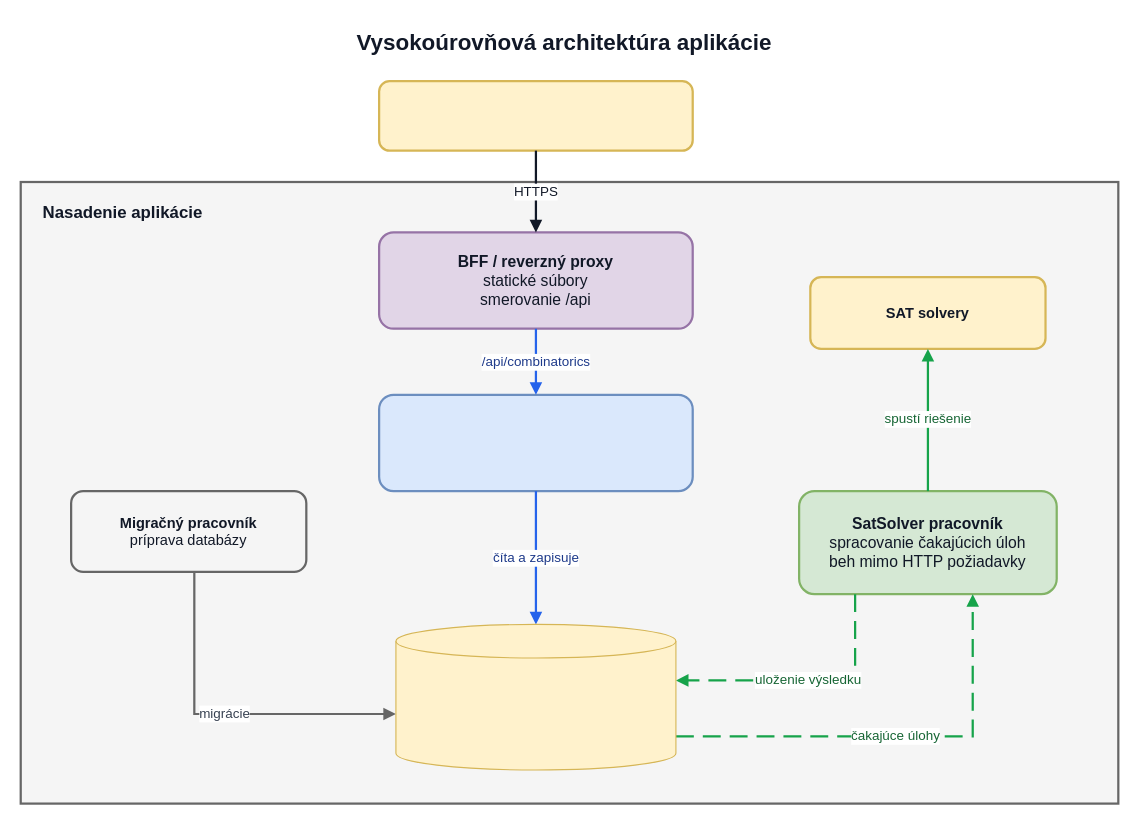
This 1138x823 diagram has some shape labels left out. The shapes that lost their labels are listed below. From the top down, each one's box as (x1, y1, x2, y2) in pixels, then its label:
(377, 80, 693, 151): Prehliadač používateľa React SPA
(377, 393, 693, 492): Combinatorics API príkazy a dotazy validácia vstupov
(395, 623, 676, 770): Databaza problémy, stavy, kódovanie a výsledky
